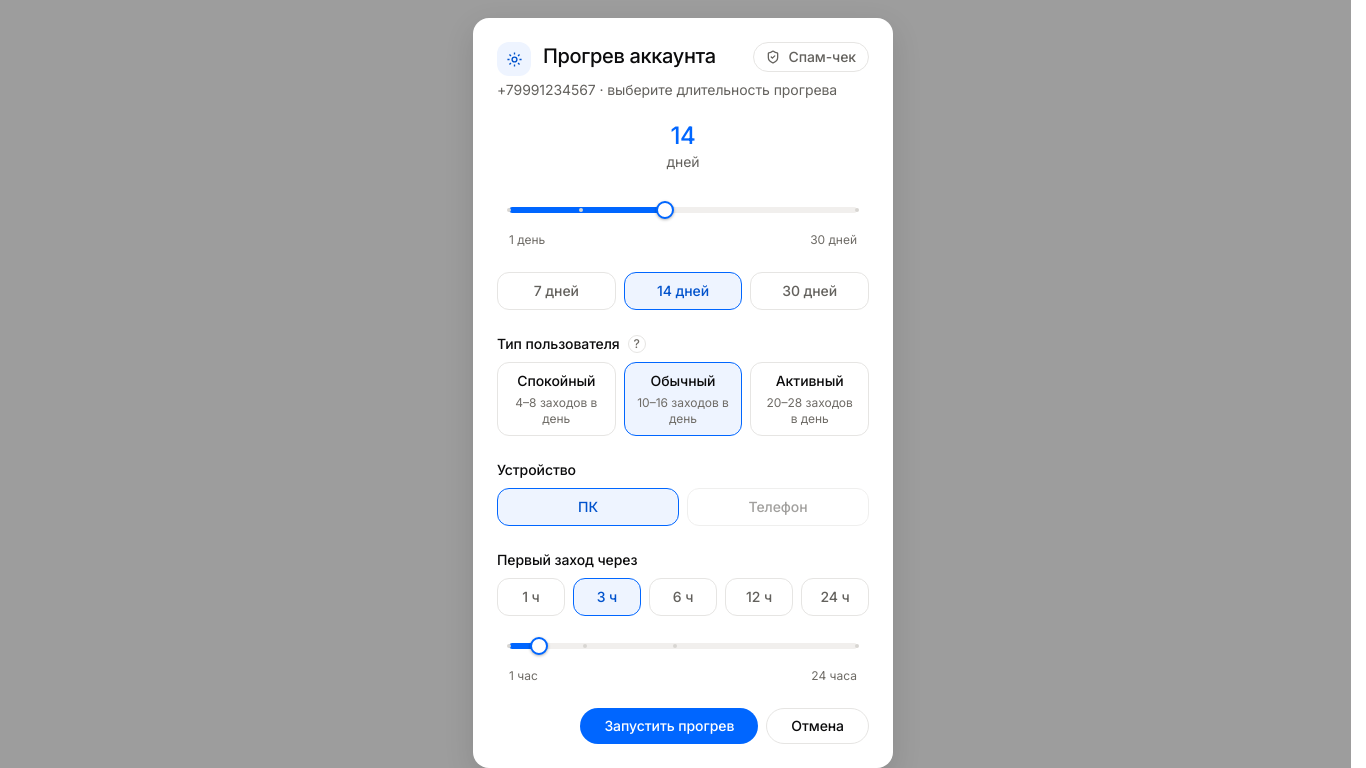
Test: spam-check button runs the real @SpamBot probe and shows the verdict
Click the button "Спам-чек" at (811, 57), box [754, 42, 869, 72]
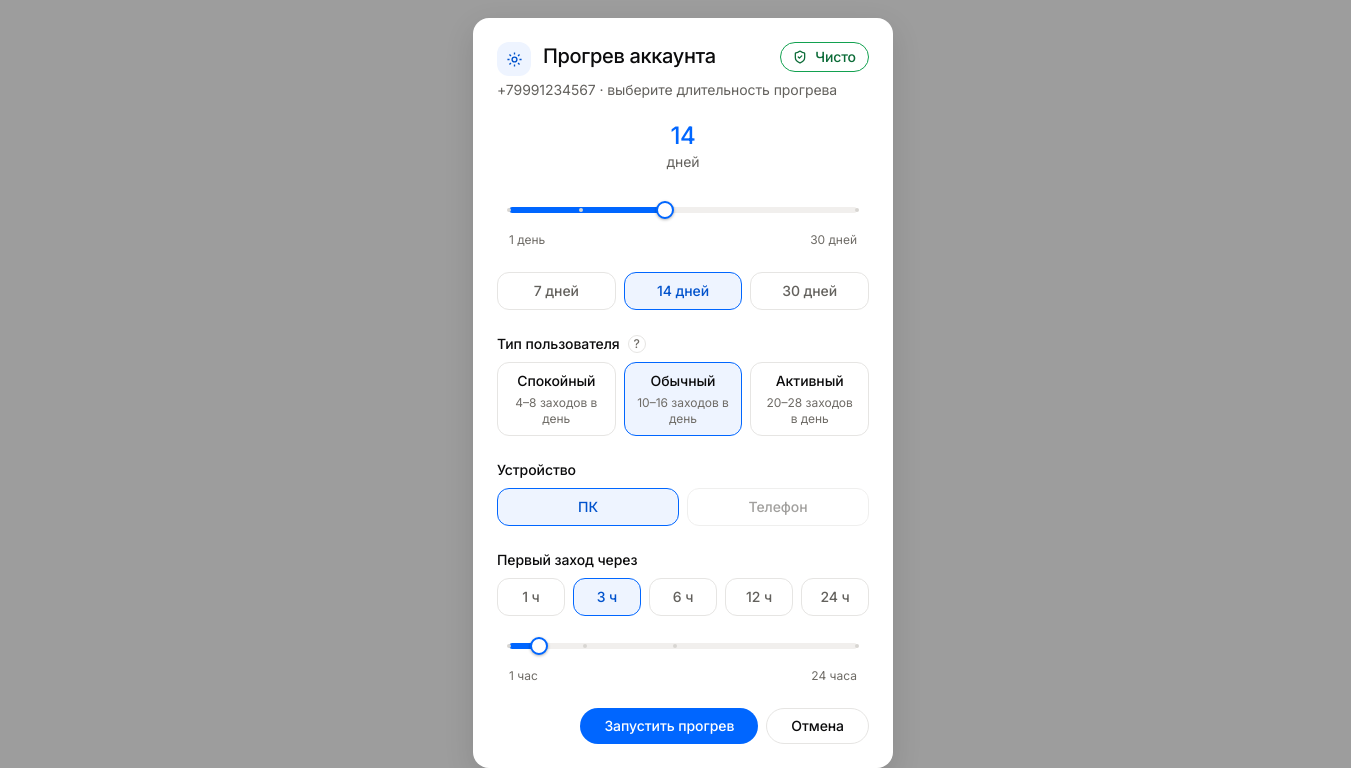
Now the button "Чисто" is shown, box [780, 42, 869, 72]
